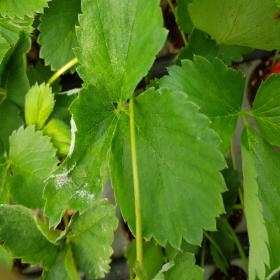Powdery Mildew Leaf: (42, 83, 119, 231), (152, 250, 204, 279)
